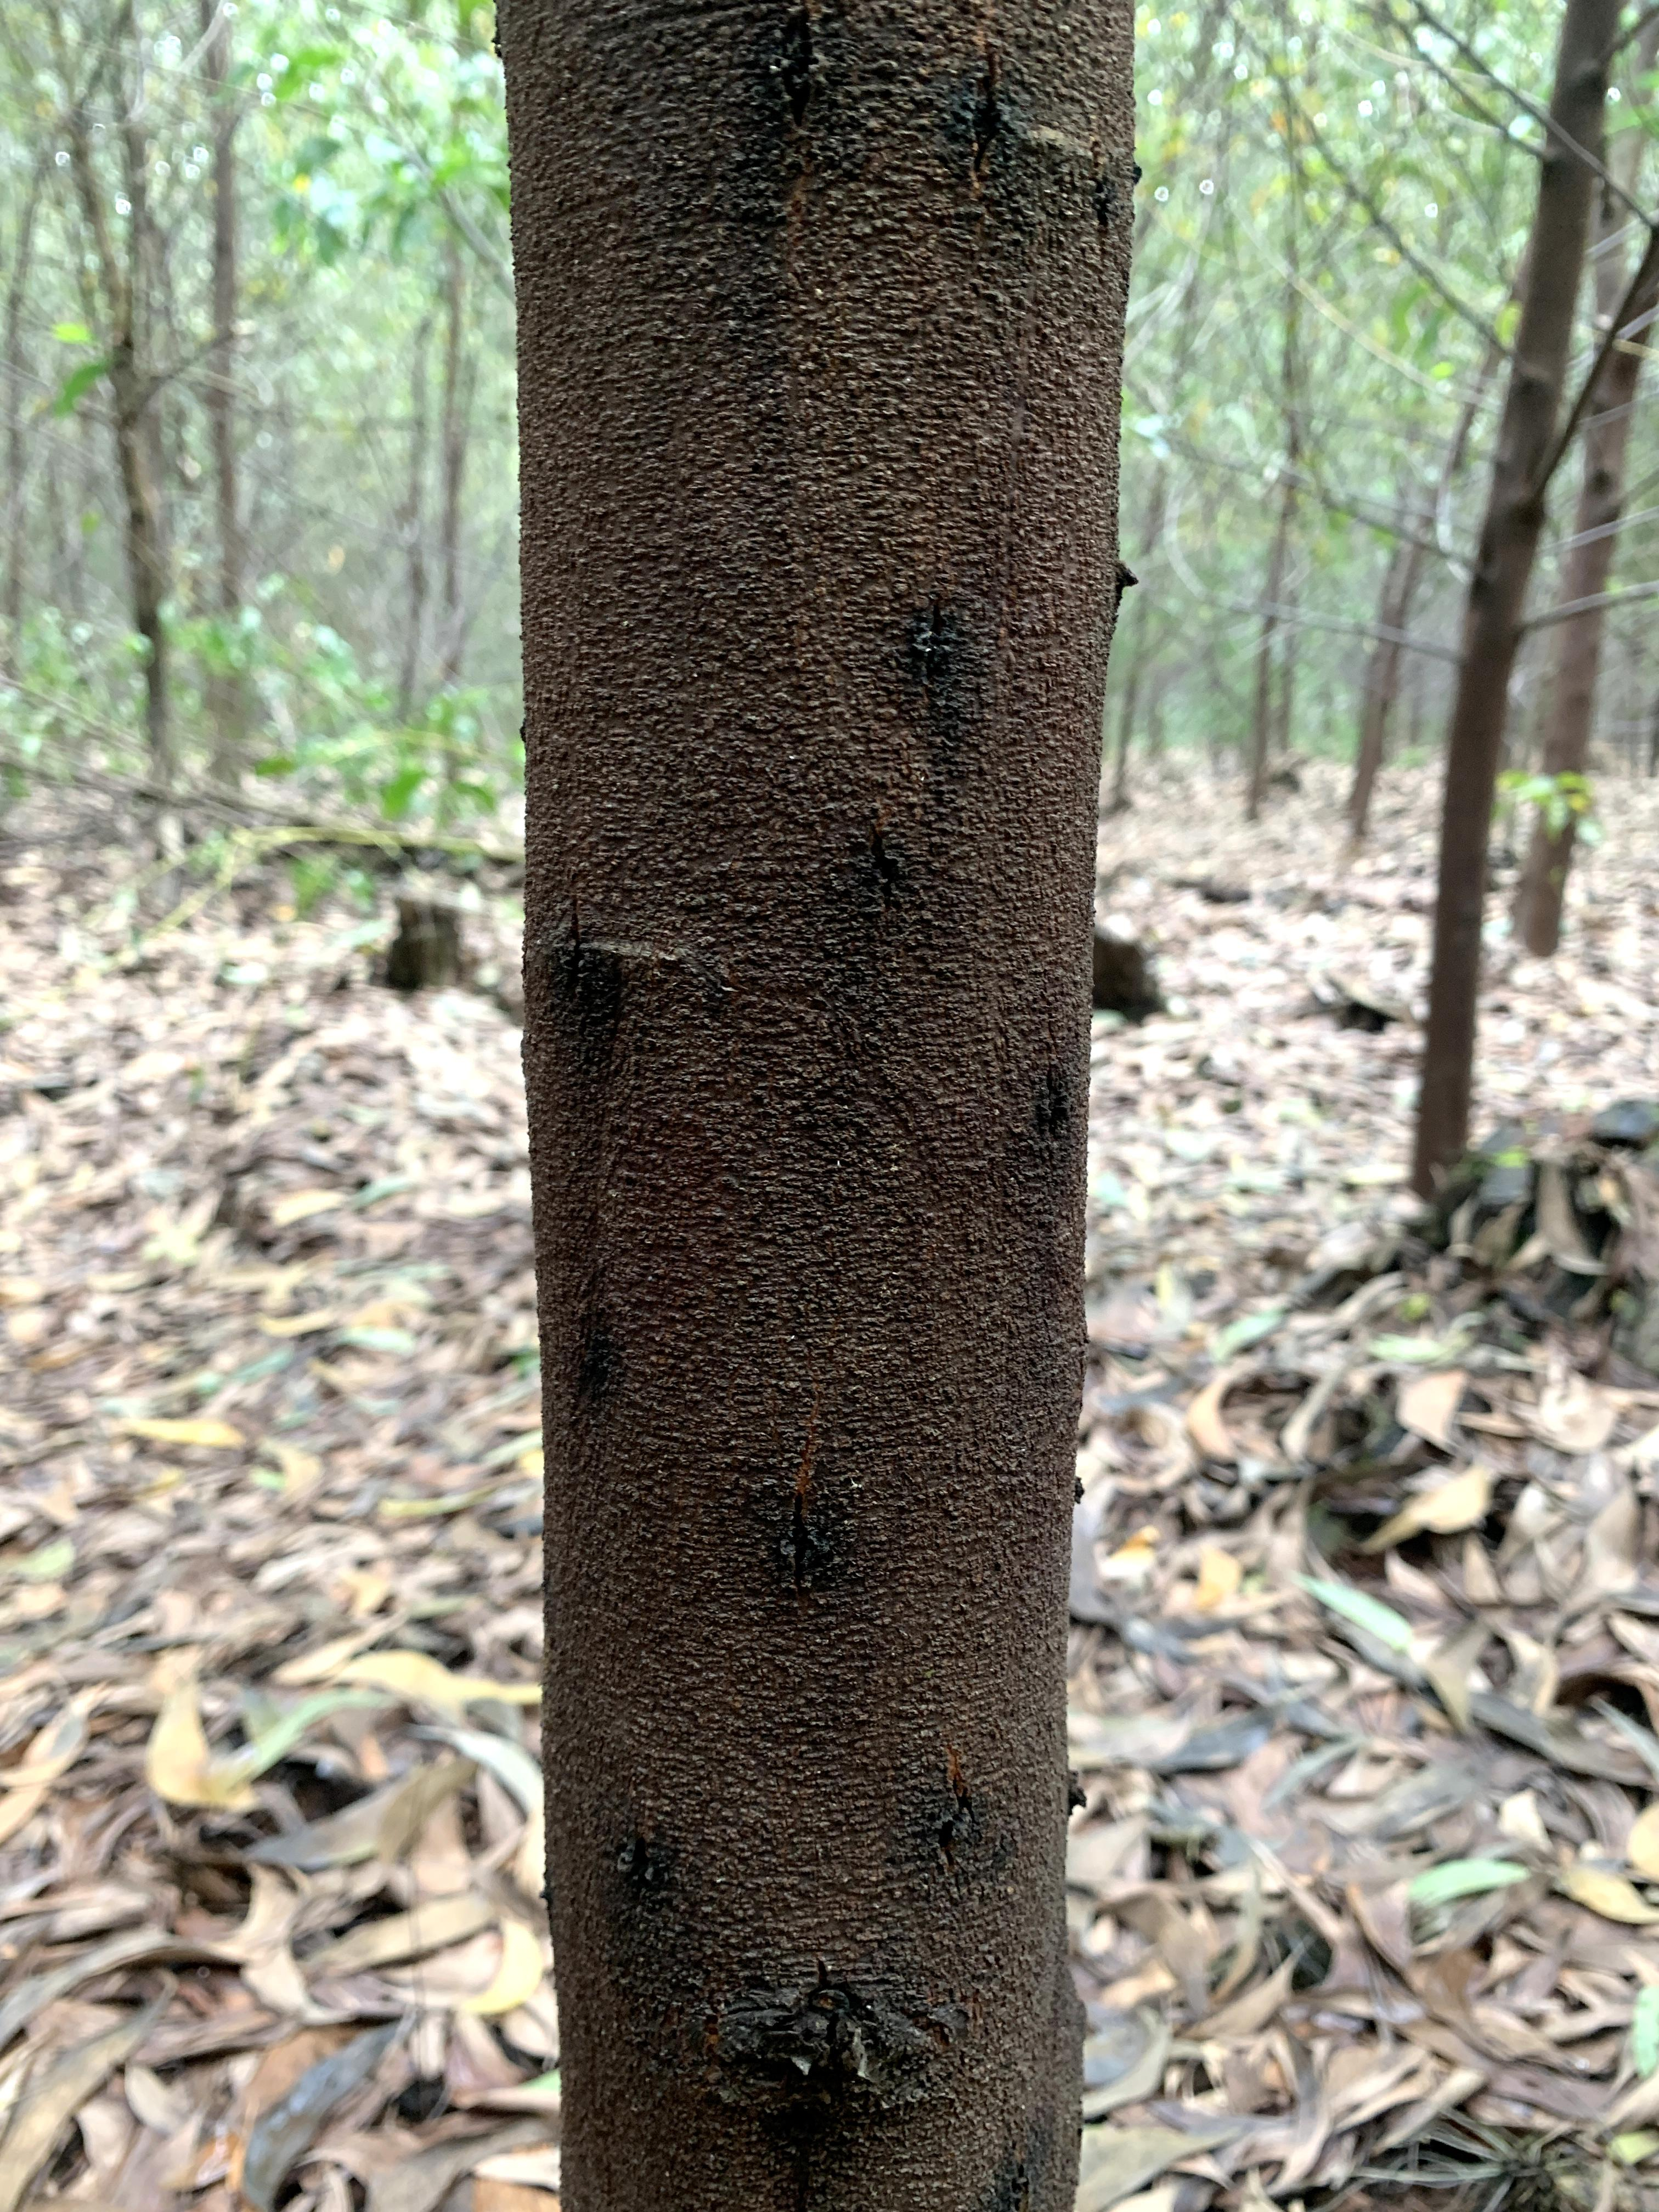Stem Borer: (767, 1952, 892, 2128), (943, 37, 1039, 200), (760, 2, 843, 160), (767, 1474, 840, 1606), (920, 1757, 992, 1888), (896, 570, 969, 695), (601, 1804, 680, 1918), (856, 813, 925, 914), (549, 904, 599, 1040), (988, 2148, 1075, 2212), (1025, 1043, 1073, 1157), (573, 1332, 622, 1432)
